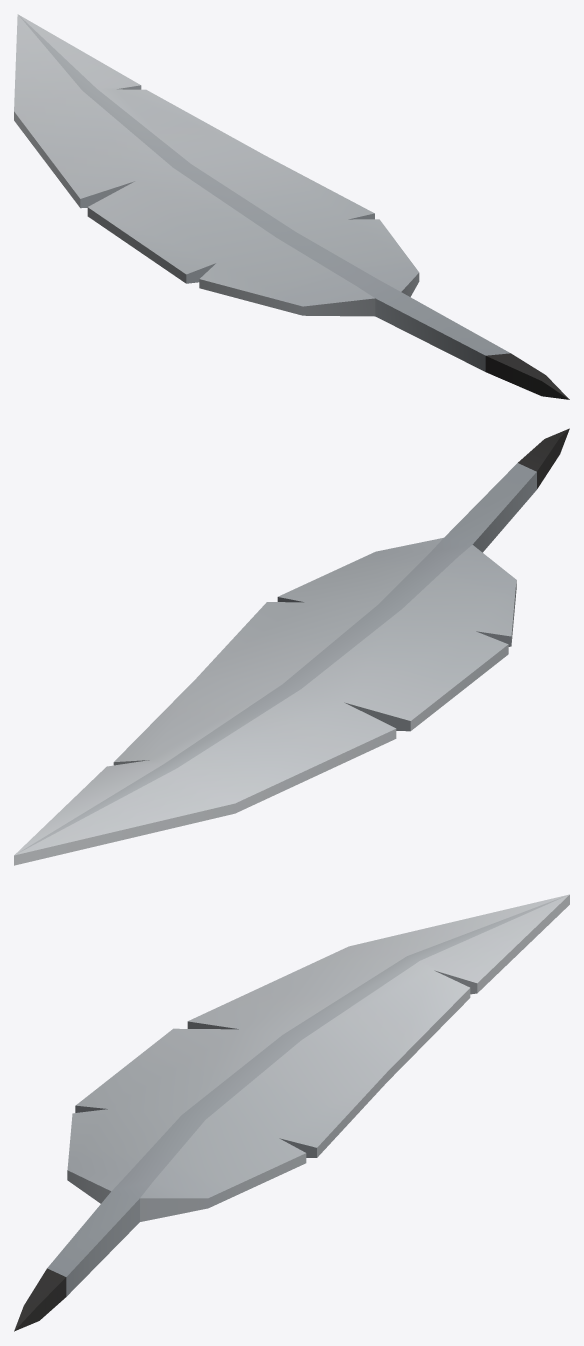
The model's file is Feather7.fbx.
3 views of the same model, one above another, from view 1: azimuth 30°, elevation 25°; view 2: azimuth 150°, elevation 25°; view 3: azimuth 330°, elevation 25° (orthographic). The views are drawn at different scales.
Parts seen in each view (by area): view 1: Feather7; view 2: Feather7; view 3: Feather7.
Boxes of the visible parts, x1,y1,x2,y2 form: Feather7: [14, 14, 569, 399]; Feather7: [14, 428, 569, 865]; Feather7: [14, 894, 569, 1331].
Size of the model in its own units: 5.25 by 0.7807 by 23.02.
